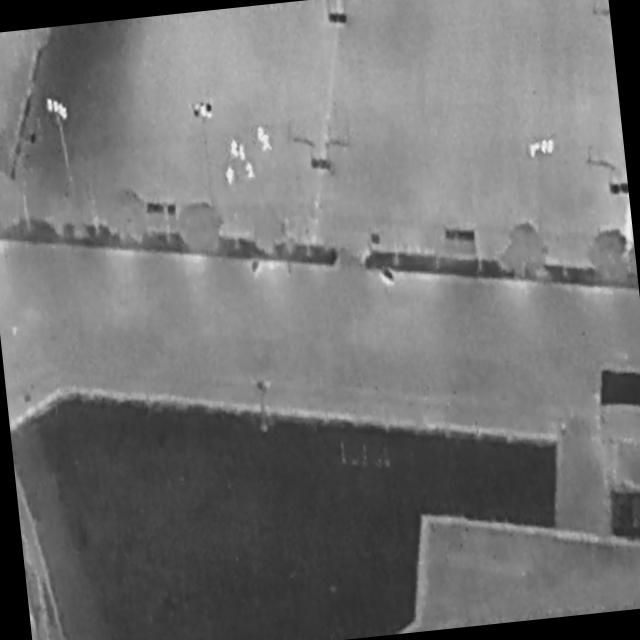person: (226, 166, 237, 188), (260, 134, 274, 151), (230, 140, 240, 160), (246, 162, 257, 179), (239, 143, 248, 163), (256, 126, 266, 143)
